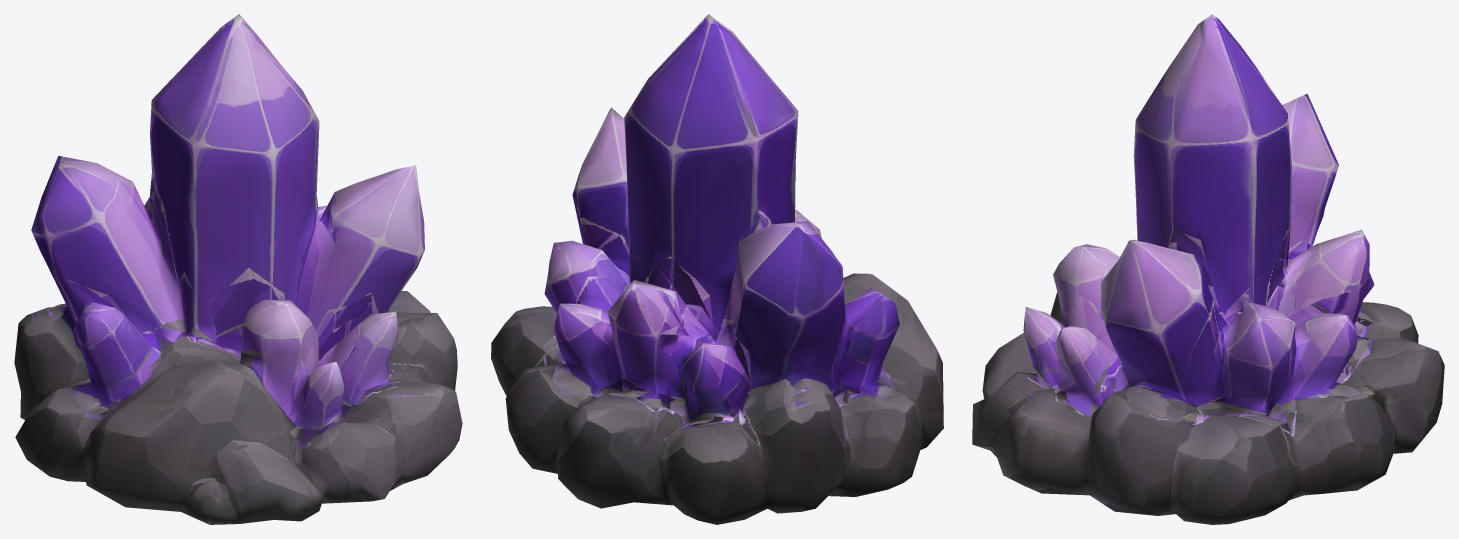
The model's file is AmethystCluster.glb.
The picture shows the model from 3 angles, left to right: view 1: azimuth 30°, elevation 25°; view 2: azimuth 150°, elevation 25°; view 3: azimuth 270°, elevation 25°; orthographic projection. The views are drawn at different scales.
Visible parts, largest first — view 1: texture_mapping; view 2: texture_mapping; view 3: texture_mapping.
Boxes of the visible parts, x1=… form: texture_mapping: x1=14, y1=14, x2=462, y2=524; texture_mapping: x1=491, y1=14, x2=943, y2=524; texture_mapping: x1=972, y1=14, x2=1444, y2=524.
Size of the model in its own units: 1 by 0.9994 by 1.
Materials: 1 (1 with a texture image).
